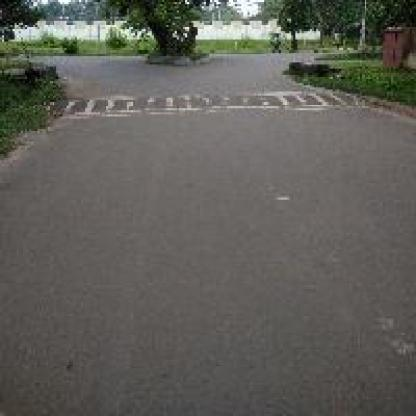Speed Bump: (61, 90, 350, 118)
